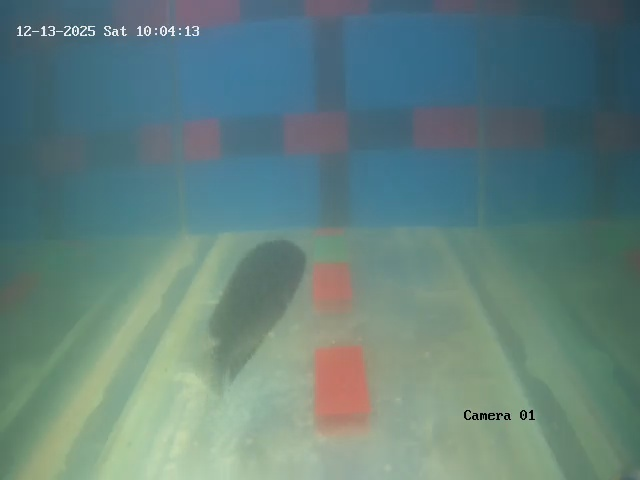fish: (211, 234, 312, 373)
